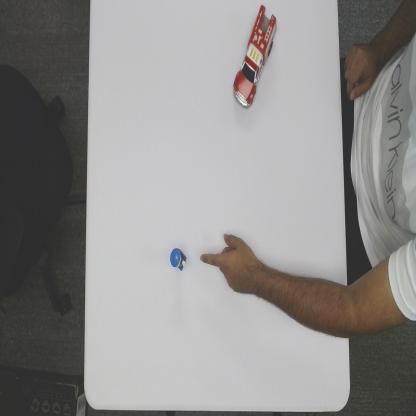Arm: (256, 256, 346, 344)
Firetruck: (232, 2, 278, 111)
Hand: (199, 231, 252, 292)
